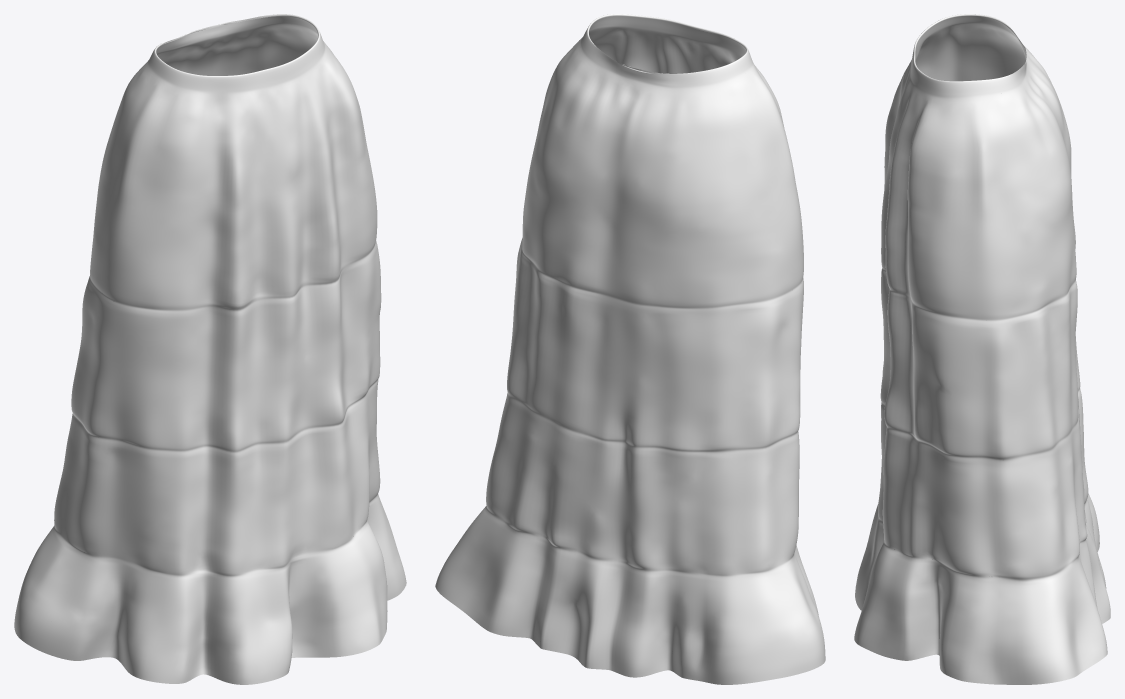
File: Skirt.glb
3 renders of one model, left to right at view 1: azimuth 30°, elevation 25°; view 2: azimuth 150°, elevation 25°; view 3: azimuth 270°, elevation 25°, orthographic. The views are drawn at different scales.
Visible parts, largest first — view 1: BardotSkirt_8467; view 2: BardotSkirt_8467; view 3: BardotSkirt_8467.
Boxes of the visible parts, left/top/right/bottom form: BardotSkirt_8467: left=14, top=14, right=406, bottom=684; BardotSkirt_8467: left=435, top=14, right=825, bottom=684; BardotSkirt_8467: left=854, top=14, right=1110, bottom=684.
Bounding box in the file's own units: 11.21 × 16.92 × 6.9.
1 material, 1 textured.
